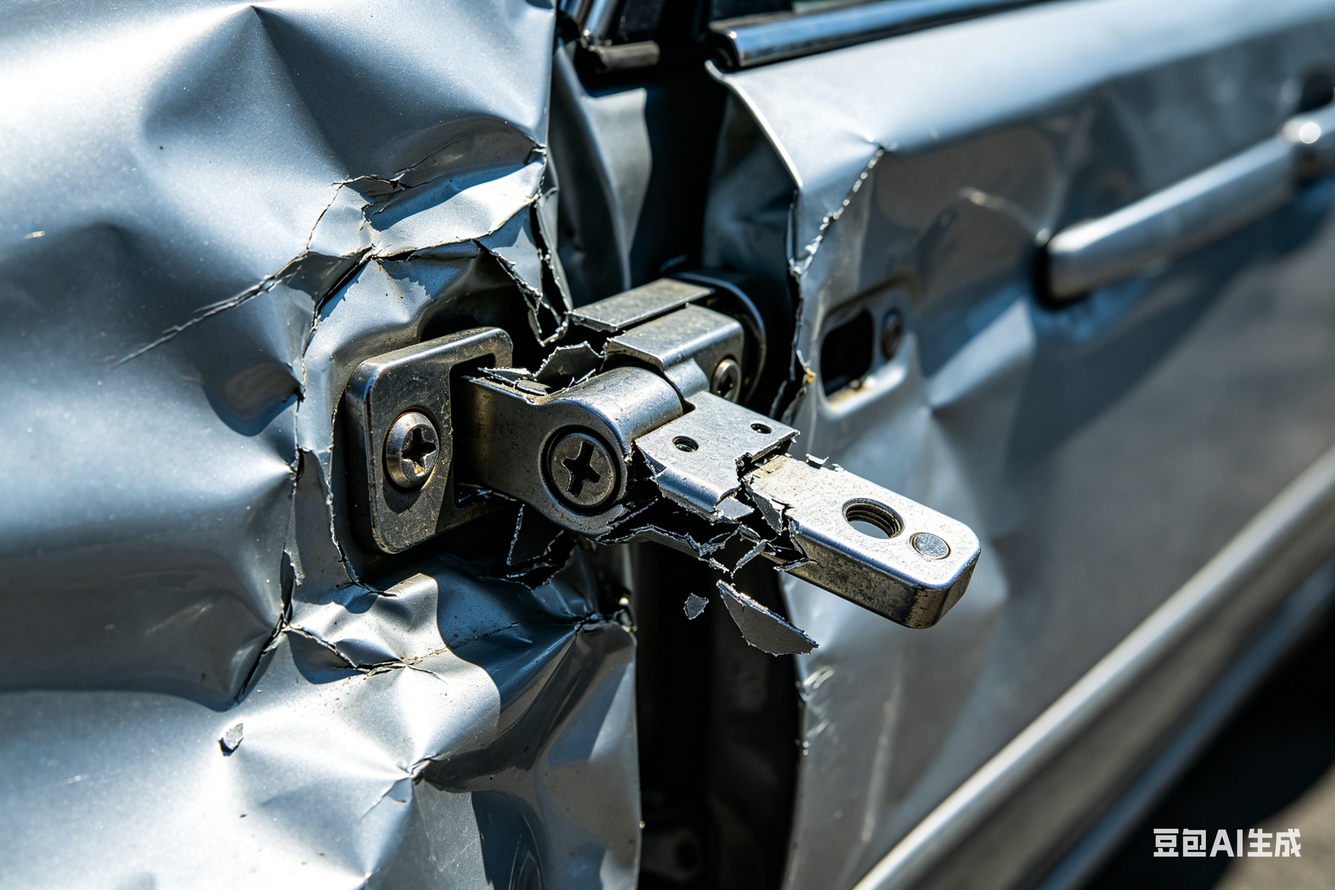BadLock: (332, 304, 833, 550)
